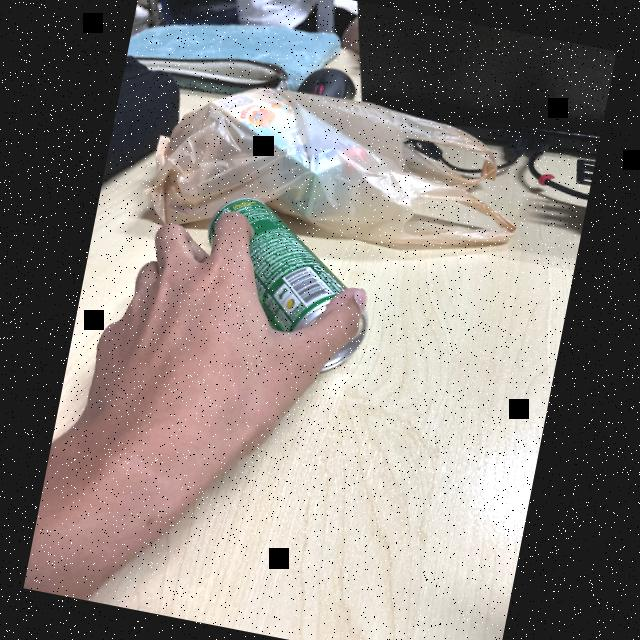can: (180, 190, 397, 377)
